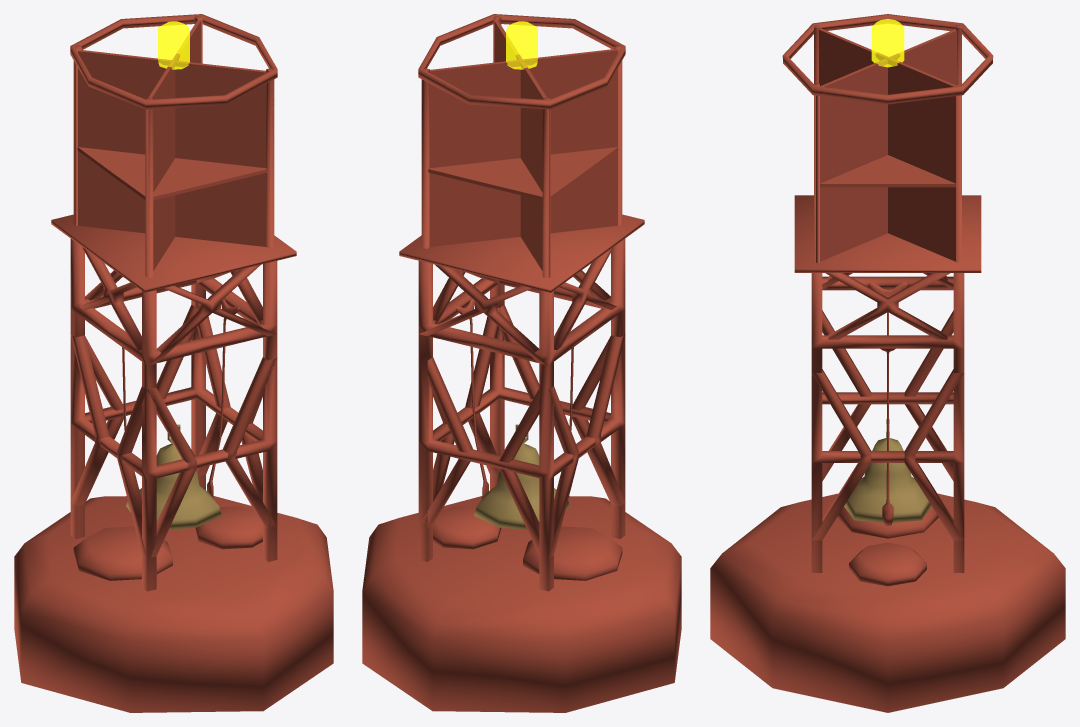
The model's file is Buoy V4.fbx.
3 views of the same model, side by side, from view 1: azimuth 30°, elevation 25°; view 2: azimuth 150°, elevation 25°; view 3: azimuth 270°, elevation 25° (orthographic).
Parts seen in each view (by area): view 1: Cube; view 2: Cube; view 3: Cube.
Part boxes in pixels (left/top/right/bottom): Cube: left=14, top=14, right=333, bottom=712; Cube: left=362, top=14, right=681, bottom=712; Cube: left=710, top=14, right=1065, bottom=712.
Size of the model in its own units: 536 by 1041 by 544.
